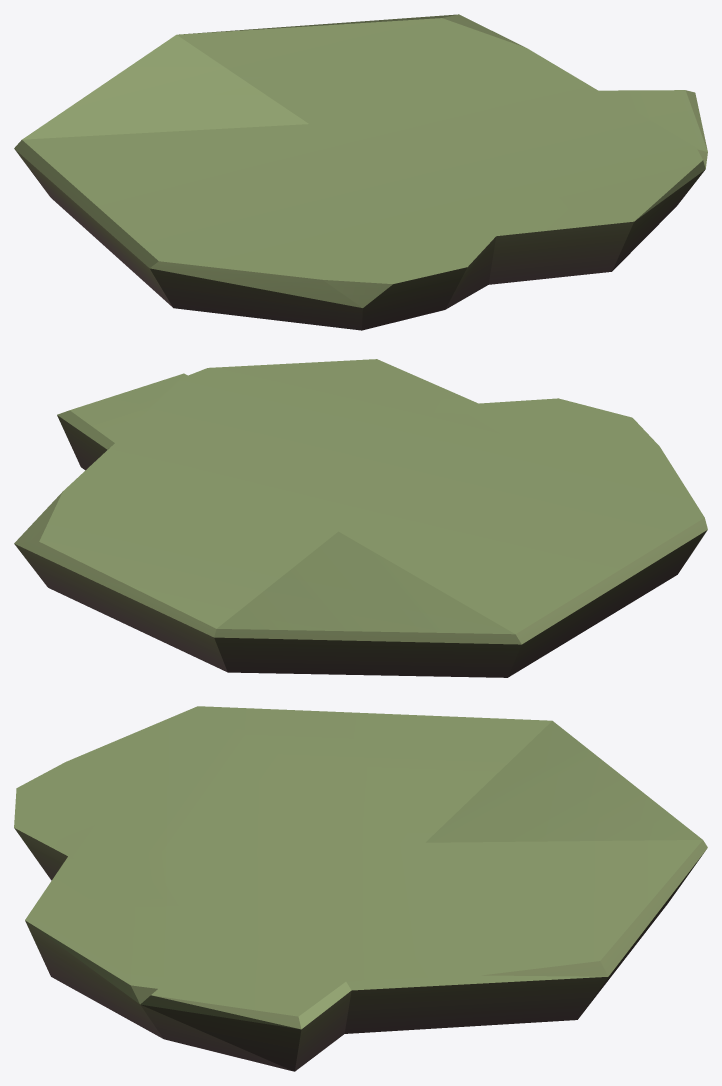
File: Floor_Desert_01_Big_0_1.fbx
The picture shows the model from 3 angles, top to bottom: view 1: azimuth 30°, elevation 25°; view 2: azimuth 150°, elevation 25°; view 3: azimuth 270°, elevation 25°; orthographic projection. The views are drawn at different scales.
Visible parts, largest first — view 1: Floor_Desert_01_Big_0_1; view 2: Floor_Desert_01_Big_0_1; view 3: Floor_Desert_01_Big_0_1.
Boxes of the visible parts, box(x1,y1,x2,y2) form: Floor_Desert_01_Big_0_1: box(14, 14, 707, 330); Floor_Desert_01_Big_0_1: box(14, 359, 707, 677); Floor_Desert_01_Big_0_1: box(14, 706, 707, 1071).
Bounding box in the file's own units: 698 × 63.65 × 644.
Materials: 1 (1 with a texture image).
